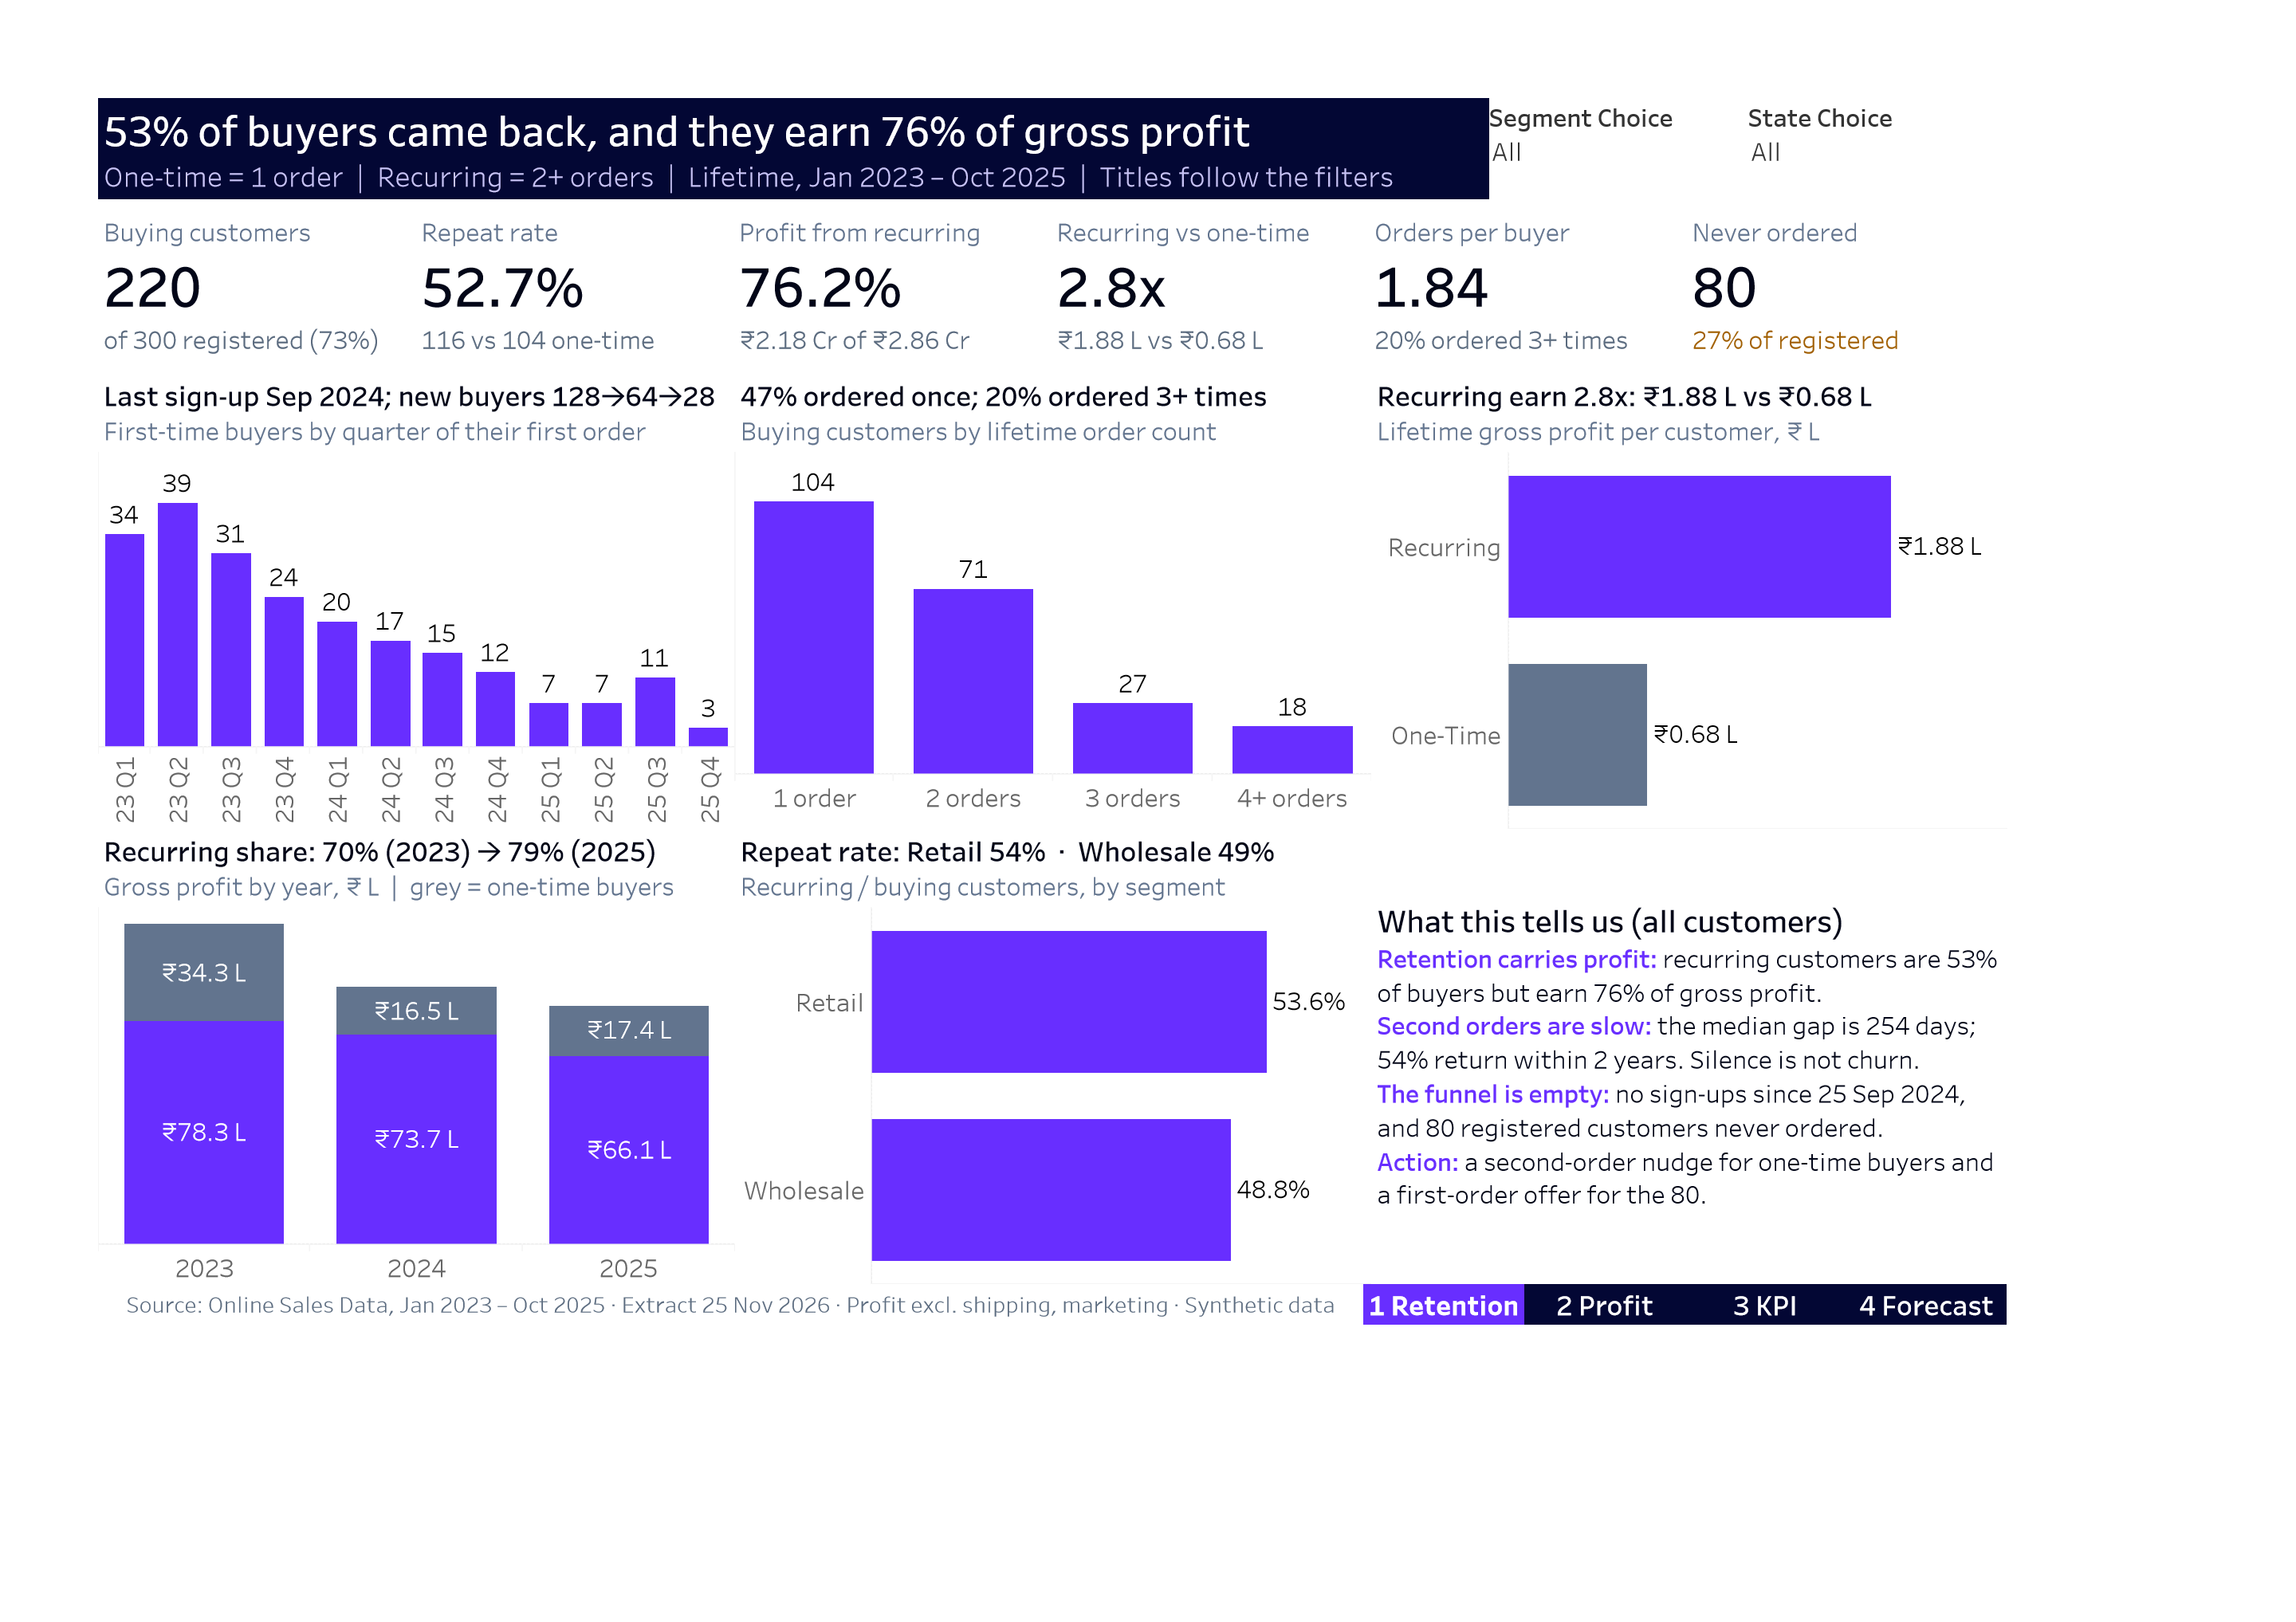

The page's visual inventory and layout, read from the dashboard file:
{"tool":"tableau","page":{"name":"1 Retention","canvas":[1400,900],"ordinal":0},"visuals":[{"type":"NONE","title":"P1 Header","box":[0,0,1020,74]},{"type":"parameter","param":"[Parameters].[Parameter 1]","box":[1020,0,190,74]},{"type":"parameter","param":"[Parameters].[Parameter 2]","box":[1210,0,190,74]},{"type":"NONE","title":"K Buyers","box":[0,74,233,128]},{"type":"NONE","title":"K Repeat","box":[233,74,233,128]},{"type":"NONE","title":"K RecShare","box":[466,74,233,128]},{"type":"NONE","title":"K Multiplier","box":[699,74,233,128]},{"type":"NONE","title":"K OPB","box":[932,74,233,128]},{"type":"NONE","title":"K Never","box":[1165,74,235,128]},{"type":"NONE","title":"T New Buyers","box":[0,202,467,58]},{"type":"NONE","title":"T Frequency","box":[467,202,467,58]},{"type":"NONE","title":"T Value","box":[934,202,466,58]},{"type":"NONE","title":"New Buyers by Quarter","box":[0,260,467,276]},{"type":"NONE","title":"Order Frequency Mix","box":[467,260,467,276]},{"type":"NONE","title":"Profit per Customer","box":[934,260,466,276]},{"type":"NONE","title":"T Profit Type","box":[0,536,467,58]},{"type":"NONE","title":"T Segment","box":[467,536,467,58]},{"type":"text","box":[934,536,466,334]},{"type":"NONE","title":"Profit by Type","box":[0,594,467,276]},{"type":"NONE","title":"Repeat Rate by Segment","box":[467,594,467,276]},{"type":"text","box":[0,870,928,30]},{"type":"dashboard-object","box":[928,870,118,30]},{"type":"dashboard-object","box":[1046,870,118,30]},{"type":"dashboard-object","box":[1164,870,118,30]},{"type":"dashboard-object","box":[1282,870,118,30]}]}

Visuals, with their boxes on the page's 1400x900 design canvas (x1, y1, x2, y2). These are canvas units, not pixel positions in the 2296x1622 screenshot, which may show the page scaled, cropped or inside an application window:
"P1 Header" NONE: x1=0, y1=0, x2=1020, y2=74
parameter: x1=1020, y1=0, x2=1210, y2=74
parameter: x1=1210, y1=0, x2=1400, y2=74
"K Buyers" NONE: x1=0, y1=74, x2=233, y2=202
"K Repeat" NONE: x1=233, y1=74, x2=466, y2=202
"K RecShare" NONE: x1=466, y1=74, x2=699, y2=202
"K Multiplier" NONE: x1=699, y1=74, x2=932, y2=202
"K OPB" NONE: x1=932, y1=74, x2=1165, y2=202
"K Never" NONE: x1=1165, y1=74, x2=1400, y2=202
"T New Buyers" NONE: x1=0, y1=202, x2=467, y2=260
"T Frequency" NONE: x1=467, y1=202, x2=934, y2=260
"T Value" NONE: x1=934, y1=202, x2=1400, y2=260
"New Buyers by Quarter" NONE: x1=0, y1=260, x2=467, y2=536
"Order Frequency Mix" NONE: x1=467, y1=260, x2=934, y2=536
"Profit per Customer" NONE: x1=934, y1=260, x2=1400, y2=536
"T Profit Type" NONE: x1=0, y1=536, x2=467, y2=594
"T Segment" NONE: x1=467, y1=536, x2=934, y2=594
text: x1=934, y1=536, x2=1400, y2=870
"Profit by Type" NONE: x1=0, y1=594, x2=467, y2=870
"Repeat Rate by Segment" NONE: x1=467, y1=594, x2=934, y2=870
text: x1=0, y1=870, x2=928, y2=900
dashboard-object: x1=928, y1=870, x2=1046, y2=900
dashboard-object: x1=1046, y1=870, x2=1164, y2=900
dashboard-object: x1=1164, y1=870, x2=1282, y2=900
dashboard-object: x1=1282, y1=870, x2=1400, y2=900
